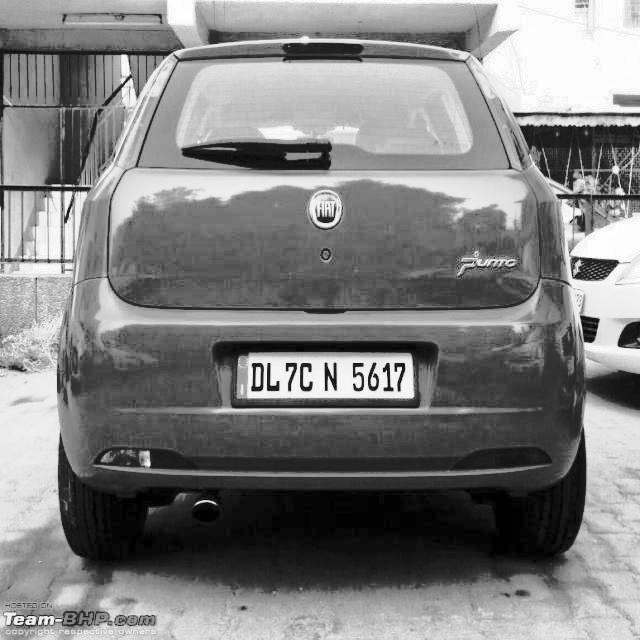Car: (80, 53, 588, 557)
